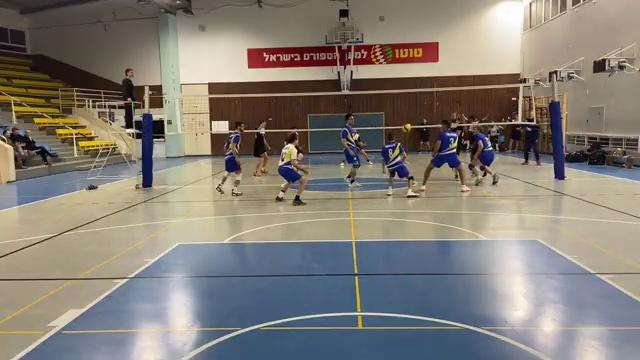ball: (399, 125, 413, 133)
